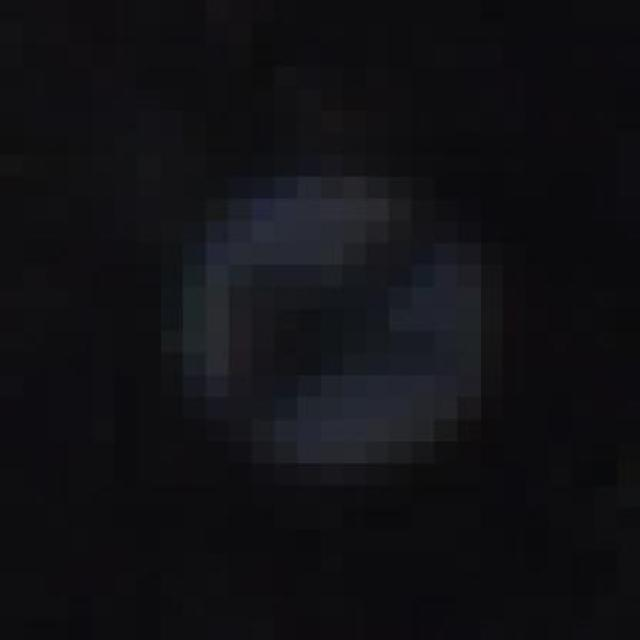Overtaking by trucks is prohibited: (137, 88, 572, 530)
